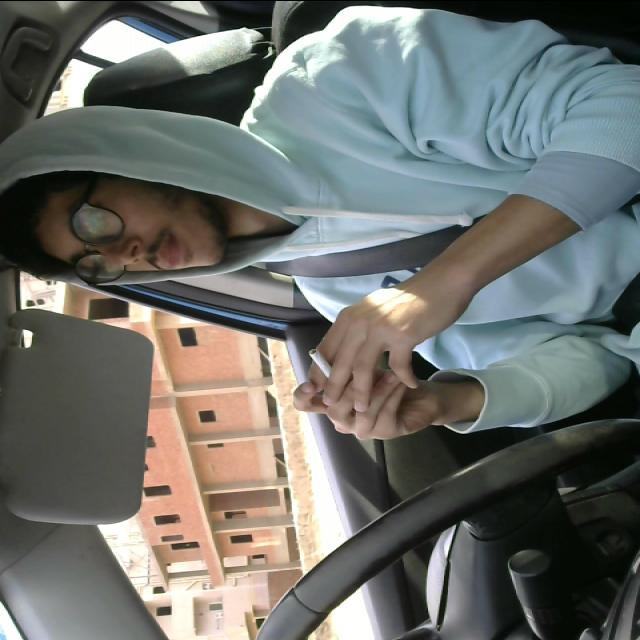smoking: (299, 342, 352, 392)
